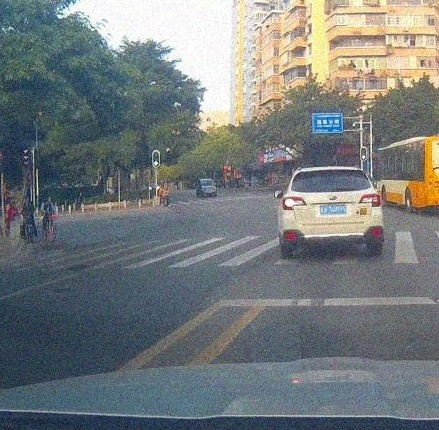L_light: (283, 196, 307, 210)
R_light: (359, 194, 381, 207)
T_light: (323, 170, 337, 173)
day-left: (281, 167, 383, 255)
